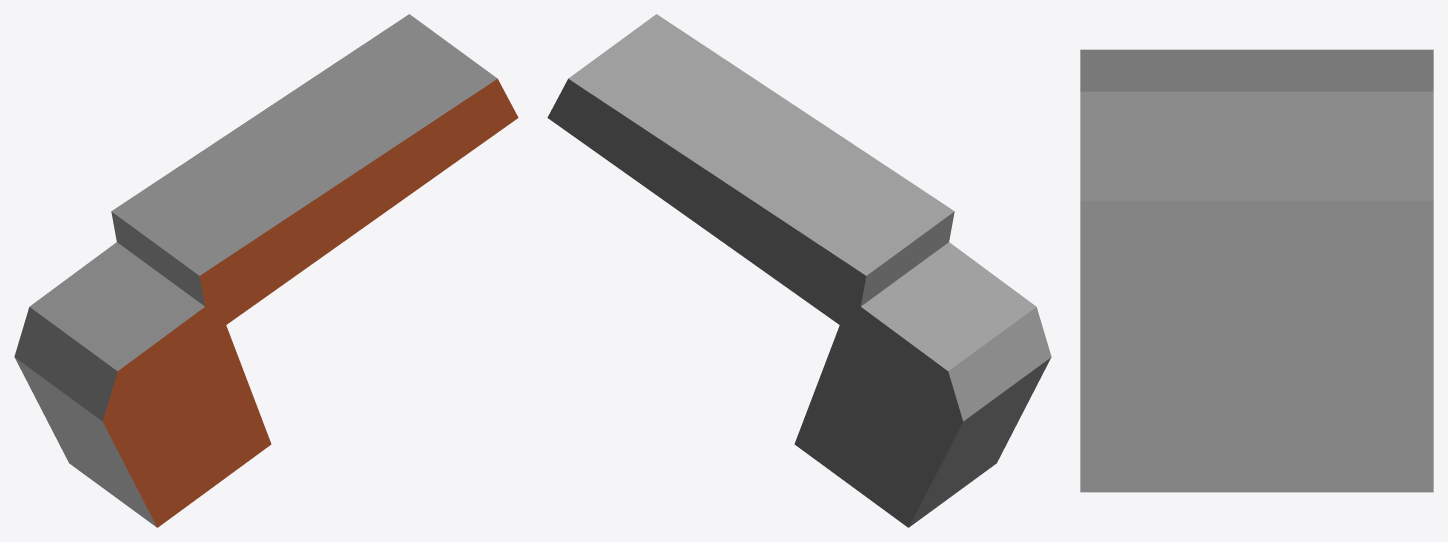
File: construction_3195_assumed_A_Casa_h6m.obj
3 renders of one model, left to right at view 1: azimuth 30°, elevation 25°; view 2: azimuth 150°, elevation 25°; view 3: azimuth 270°, elevation 25°, orthographic. The views are drawn at different scales.
Parts seen in each view (by area): view 1: construction_3195_assumed_A_Casa; view 2: construction_3195_assumed_A_Casa; view 3: construction_3195_assumed_A_Casa.
Boxes of the visible parts, bbox=[...] form: construction_3195_assumed_A_Casa: bbox=[14, 14, 518, 527]; construction_3195_assumed_A_Casa: bbox=[547, 14, 1051, 527]; construction_3195_assumed_A_Casa: bbox=[1080, 49, 1433, 492].
Bounding box in the file's own units: 16.31 × 13.73 × 6.
